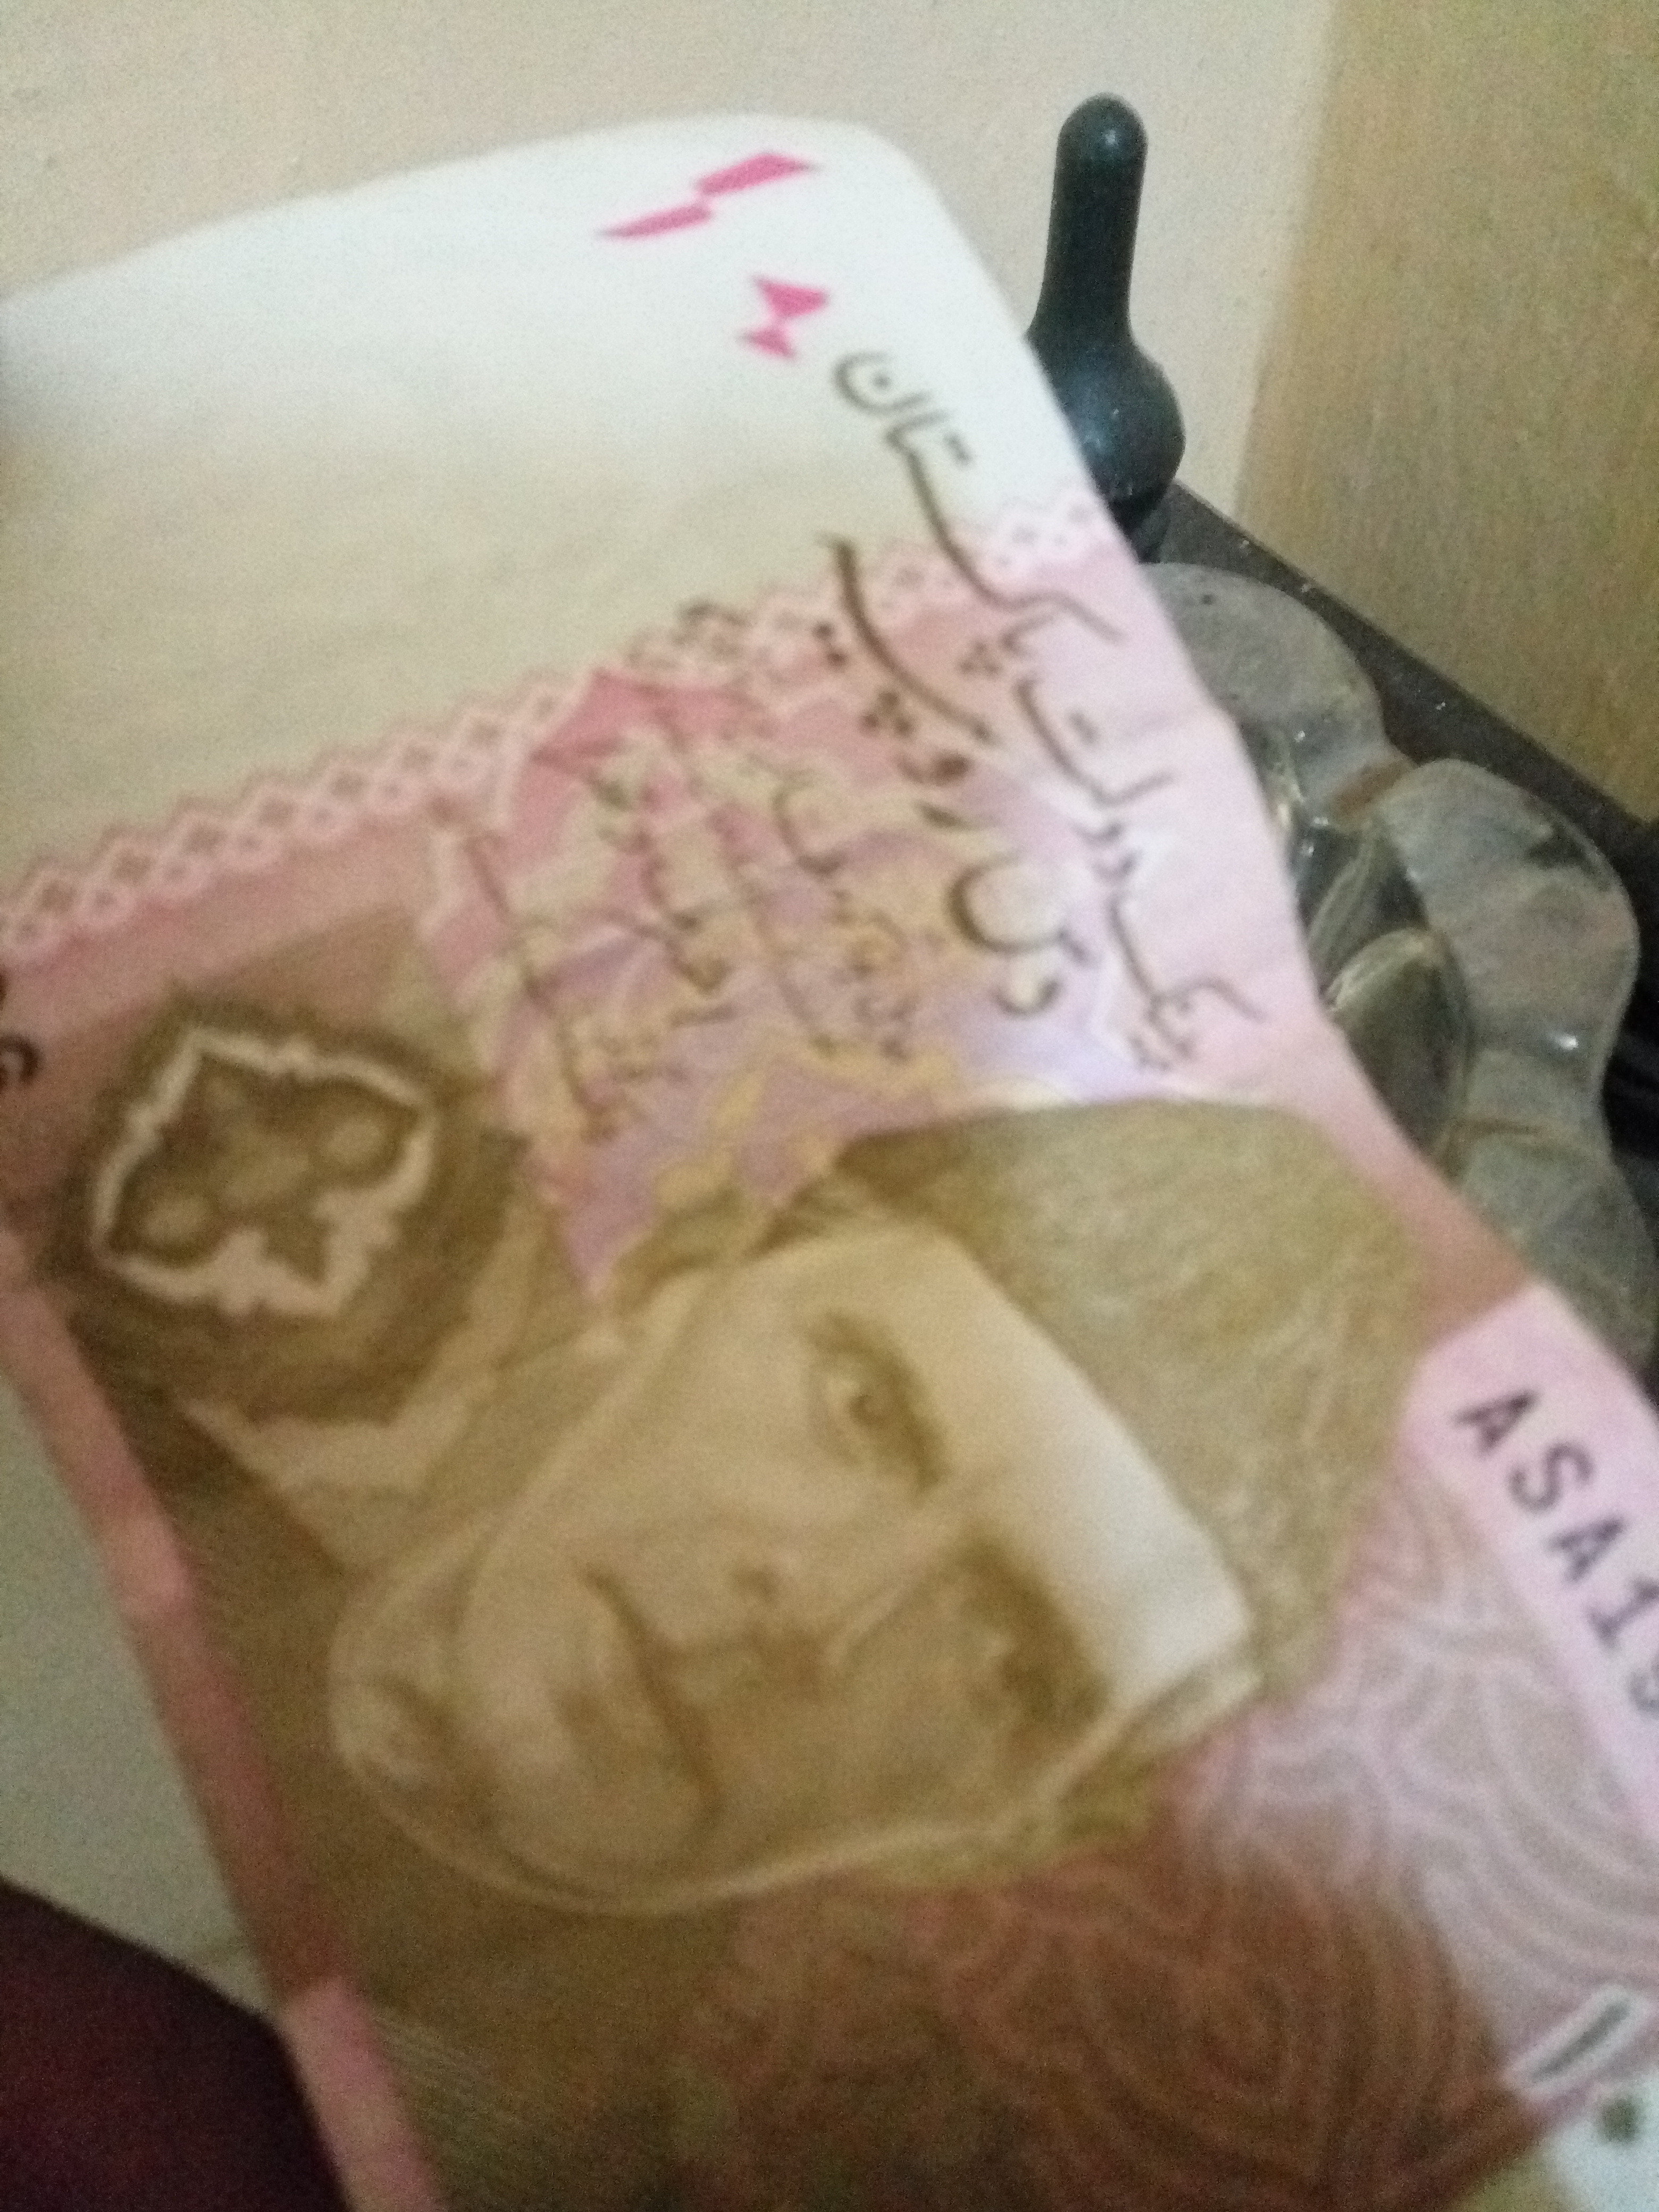10 rupee: (54, 136, 1649, 2212)
